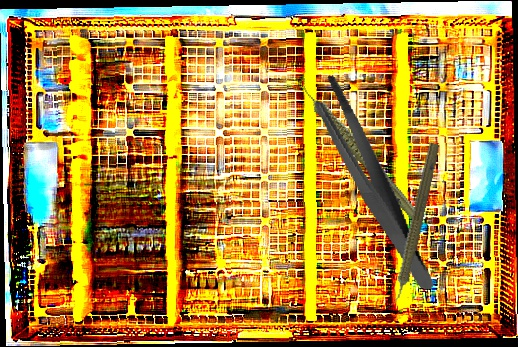Dressing Forceps: (309, 63, 436, 305)
Handpiece: (297, 58, 421, 237), (384, 140, 443, 313)
